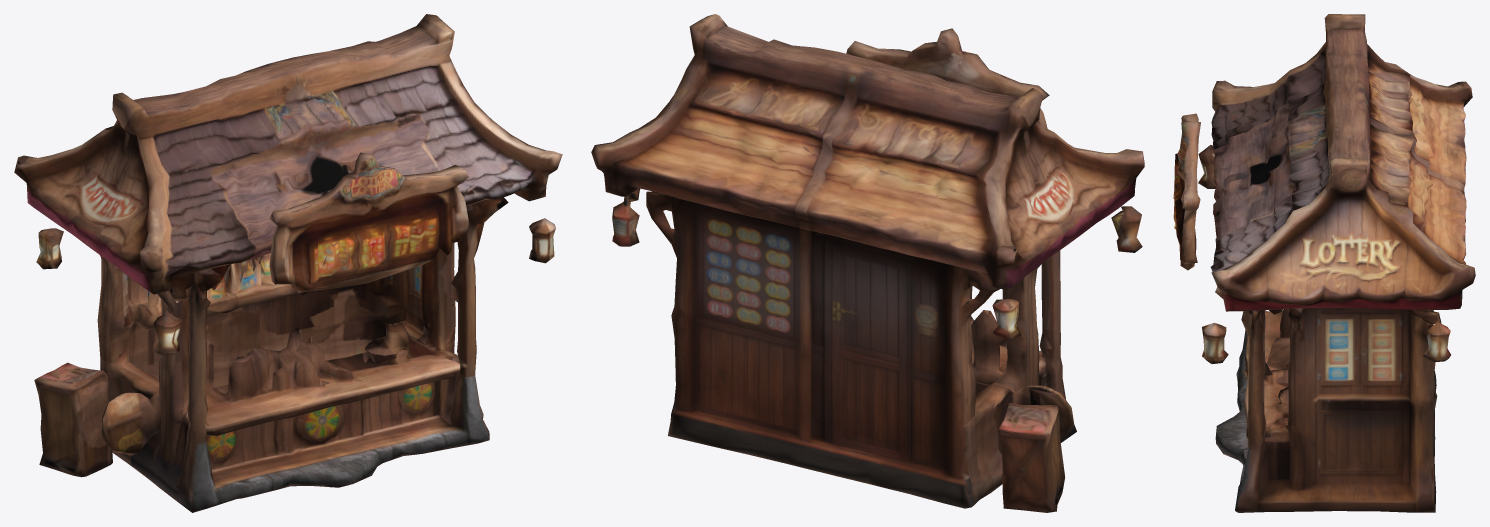
The model's file is small_wooden_lottery__0901114549_texture.fbx.
3 renders of one model, left to right at view 1: azimuth 30°, elevation 25°; view 2: azimuth 150°, elevation 25°; view 3: azimuth 270°, elevation 25°, orthographic. The views are drawn at different scales.
Visible parts, largest first — view 1: Mesh1.0; view 2: Mesh1.0; view 3: Mesh1.0.
Part boxes in pixels (x1,y1,x2,y2): Mesh1.0: (14,14,562,512); Mesh1.0: (591,14,1144,512); Mesh1.0: (1173,14,1475,512).
Size of the model in its own units: 199 by 166 by 127.
1 material, 1 textured.
